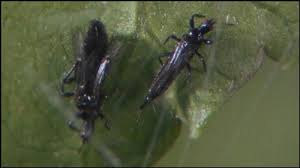Phlaeothripidae: (59, 18, 122, 147), (138, 13, 221, 109)
